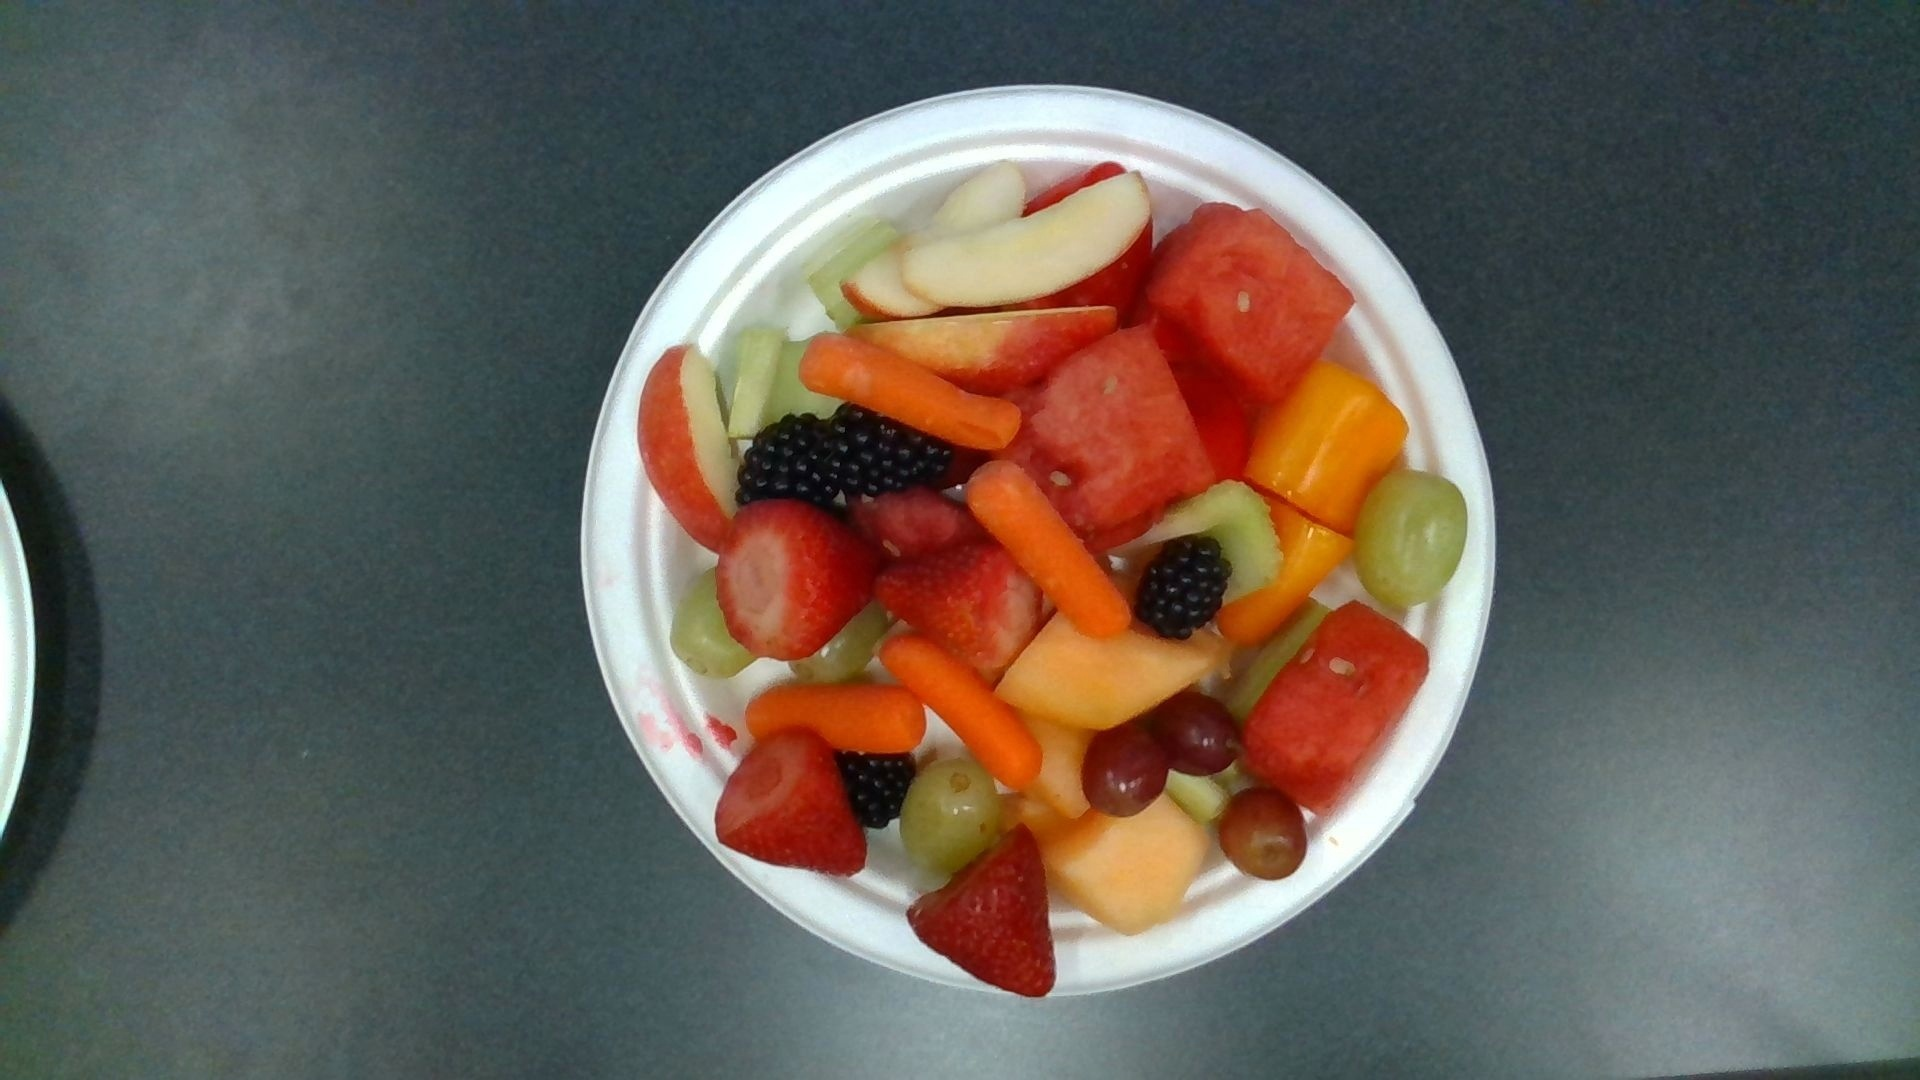apple: (905, 173, 1150, 305), (640, 348, 749, 553), (857, 309, 1117, 390)
bell_pepper: (1247, 360, 1408, 533)
blackberry: (1139, 541, 1226, 633)
cantalope: (994, 613, 1220, 723), (1044, 798, 1207, 928)
carrot: (965, 463, 1131, 633), (880, 636, 1042, 791), (802, 336, 1021, 448), (746, 688, 924, 742)
grape_green: (1356, 469, 1466, 607), (905, 761, 997, 870)
grape_purple: (1220, 790, 1305, 880), (1085, 725, 1167, 815), (1156, 695, 1240, 775)
melon: (997, 328, 1212, 550), (1154, 210, 1354, 398), (1242, 607, 1424, 806)
strawberry: (720, 500, 889, 658), (909, 825, 1055, 996), (719, 733, 869, 873), (874, 545, 1036, 670)
